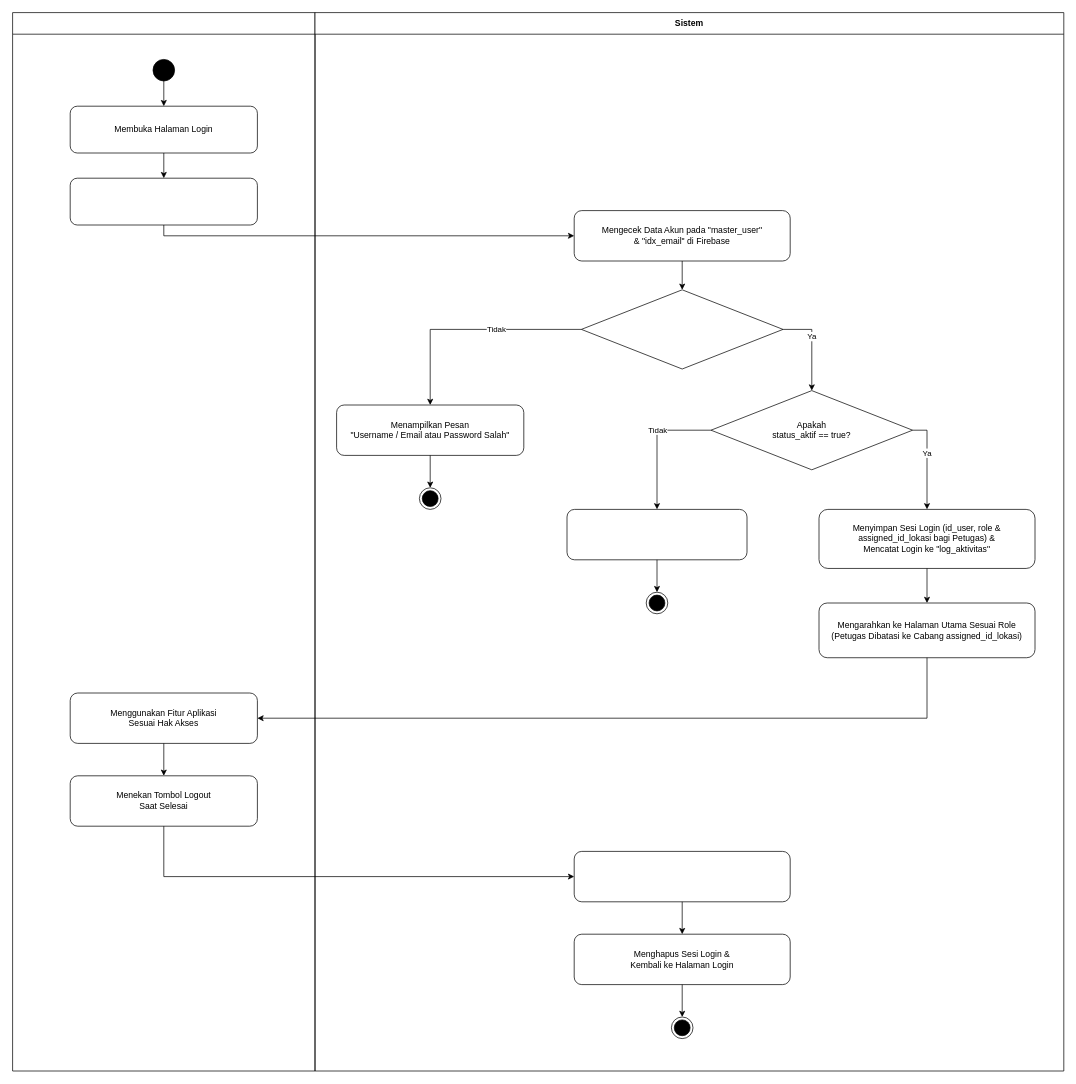
Some shapes in this 1076 by 1084 pixel diagram are drawn without their labels. The shapes that lost their labels are listed below. From the top down, each one's box as (x1, y1, x2, y2) in pixels, then its label:
(69, 177, 257, 225): Menginput Username / Email dan Password
(581, 289, 783, 369): Apakah Username / Email & Password Sesuai?
(12, 12, 315, 1071): Pengguna (Admin / Petugas / Owner / Member)
(566, 509, 747, 560): Menampilkan Pesan "Akun Tidak Aktif"
(573, 851, 790, 902): Mencatat Waktu Logout ke "log_aktivitas"
